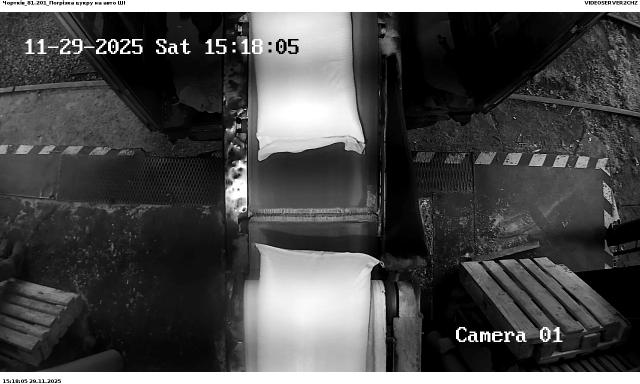bag: (251, 12, 366, 168), (255, 244, 383, 372)
